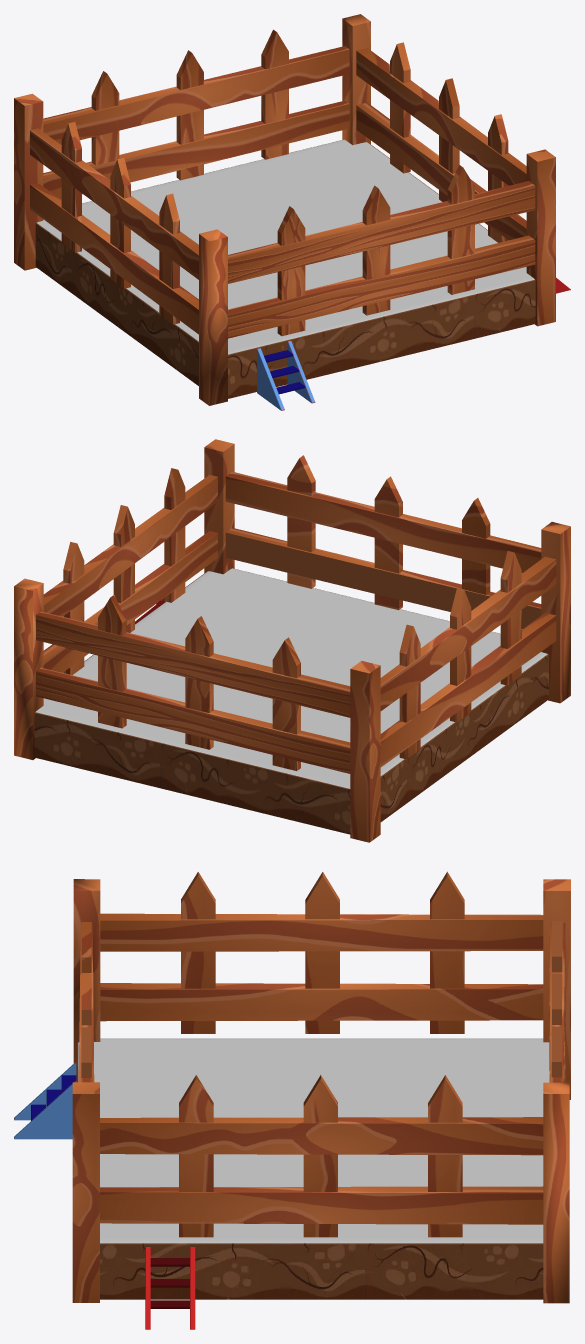
File: ring.fbx
3 views of the same model, one above another, from view 1: azimuth 30°, elevation 25°; view 2: azimuth 150°, elevation 25°; view 3: azimuth 270°, elevation 25° (orthographic). The views are drawn at different scales.
Visible parts, largest first — view 1: Cube.100, Fence2_Cube.005, Fence2_Cube.007, Fence2_Cube.006, Fence2_Cube.004, Cube.102; view 2: Cube.100, Fence2_Cube.005, Fence2_Cube.006, Fence2_Cube.007, Fence2_Cube.004; view 3: Cube.100, Fence2_Cube.004, Fence2_Cube.005, Cube.102, Fence2_Cube.006, Fence2_Cube.007, Cube.101.
Part boxes in pixels (x1,y1,x2,y2): Cube.100: (35, 139, 535, 398); Fence2_Cube.005: (14, 93, 227, 405); Fence2_Cube.007: (228, 165, 535, 338); Fence2_Cube.006: (43, 29, 349, 199); Fence2_Cube.004: (342, 14, 555, 326); Cube.102: (257, 340, 315, 410); Cube.100: (34, 568, 548, 834); Fence2_Cube.005: (350, 522, 570, 842); Fence2_Cube.006: (36, 594, 350, 773); Fence2_Cube.007: (225, 455, 541, 629); Fence2_Cube.004: (14, 439, 234, 759); Cube.100: (77, 1038, 565, 1299); Fence2_Cube.004: (72, 1075, 569, 1303); Fence2_Cube.005: (73, 871, 570, 1099); Cube.102: (14, 1062, 76, 1139); Fence2_Cube.006: (549, 921, 565, 1082); Fence2_Cube.007: (78, 922, 94, 1082); Cube.101: (145, 1247, 195, 1329).
Size of the model in its own units: 103 by 43.64 by 99.89.
